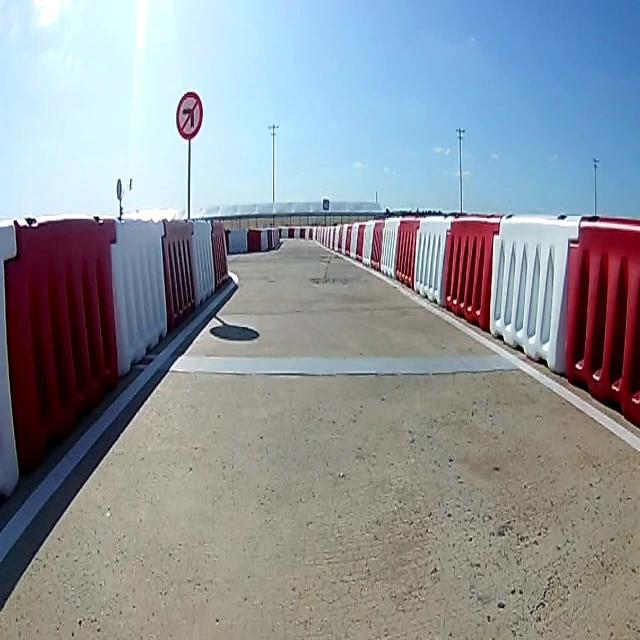soladonulmez: (176, 91, 202, 141)
